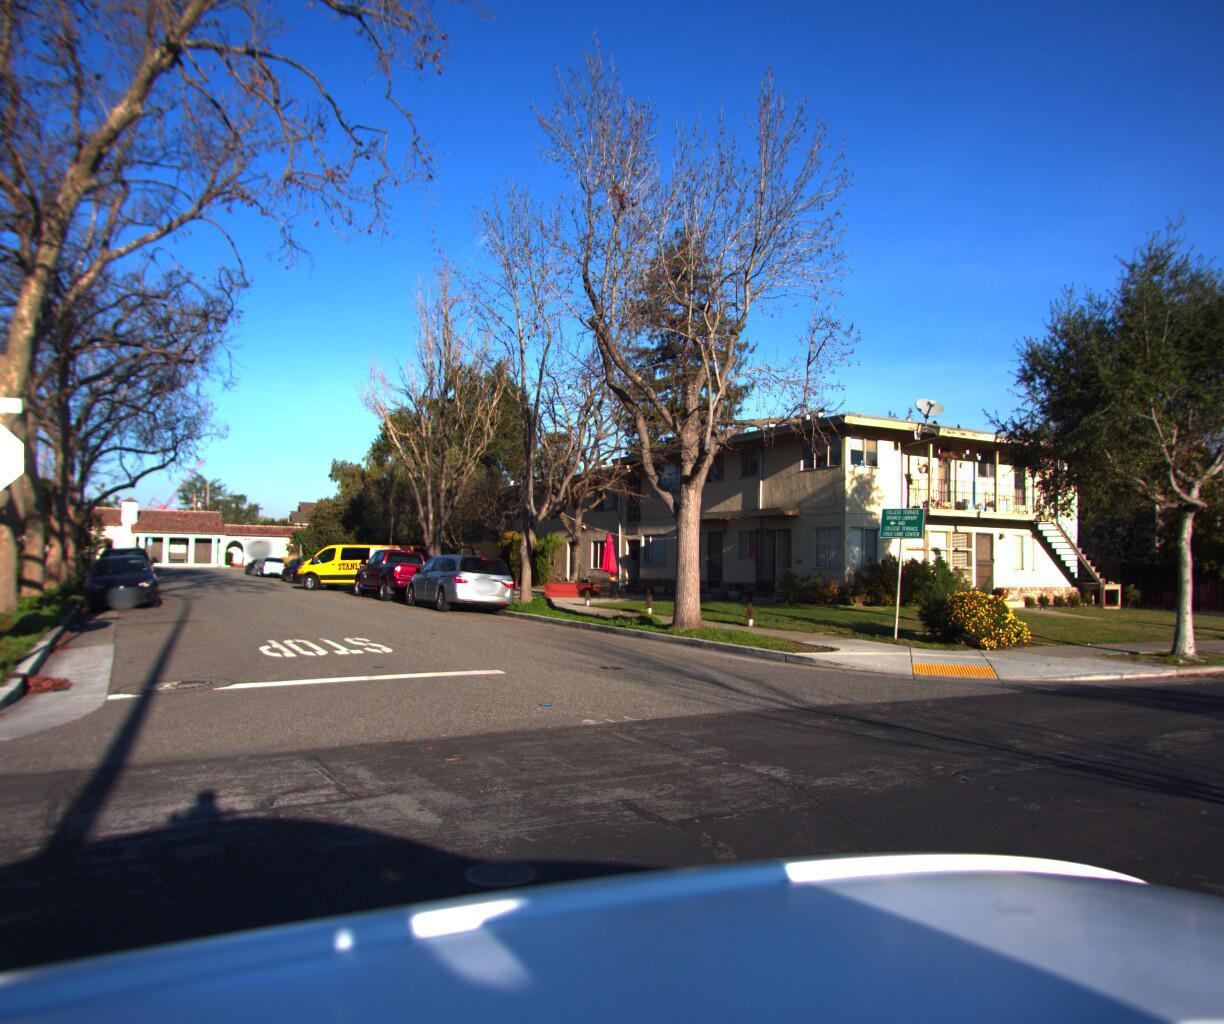car: (401, 547, 530, 612), (288, 537, 435, 588), (349, 542, 460, 602), (79, 550, 169, 608), (91, 539, 165, 596), (255, 551, 291, 574)
